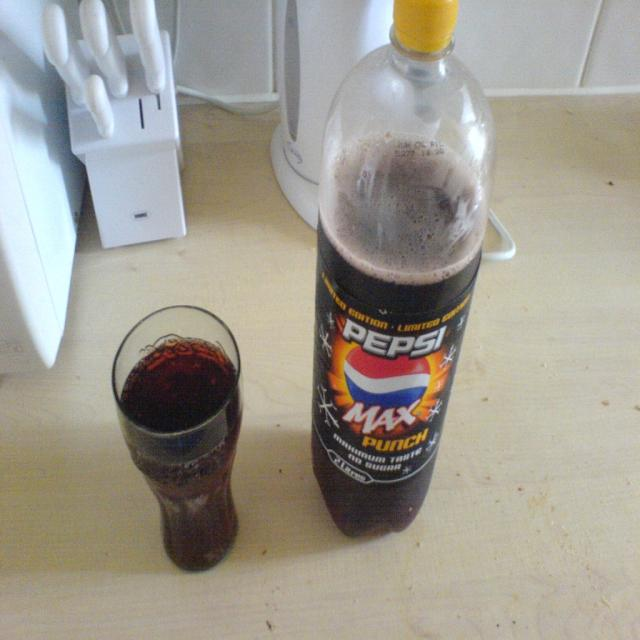pepsi: (340, 347, 434, 411)
